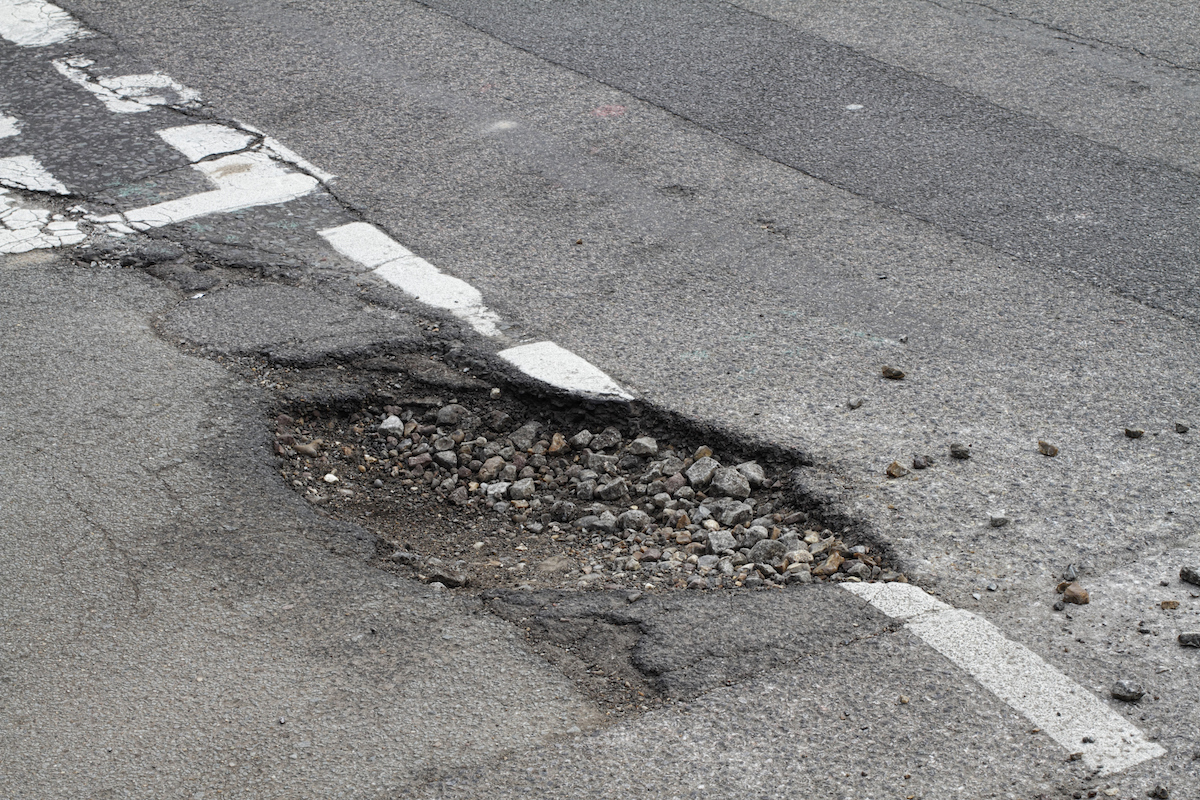Hole_in_the_road: (190, 321, 950, 656)
